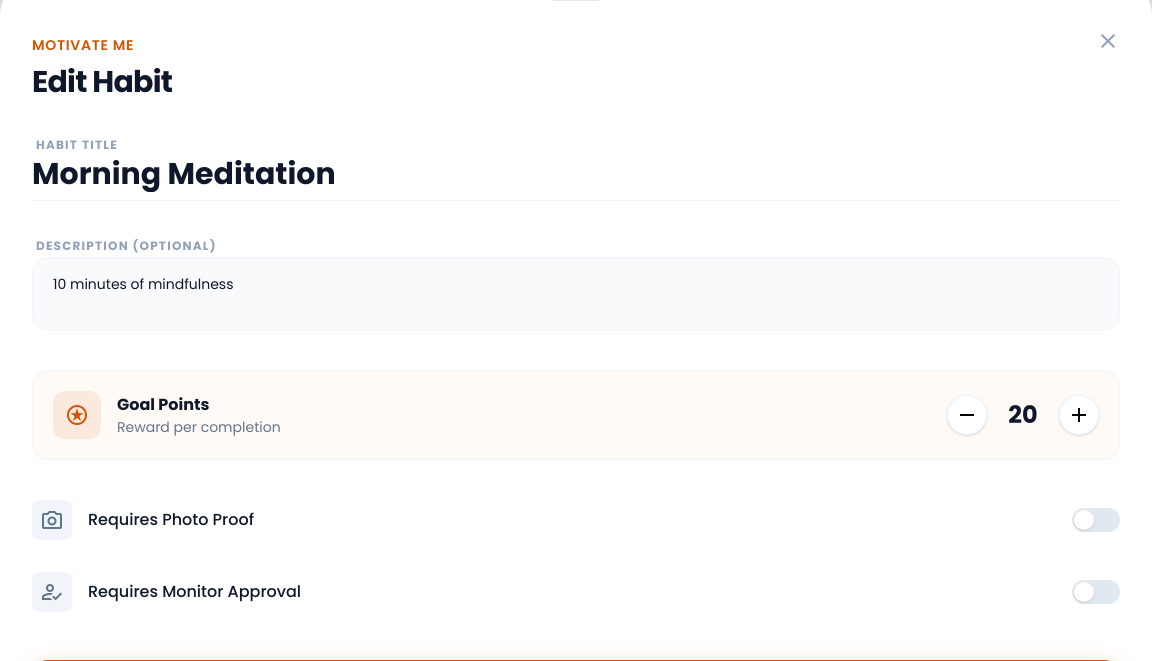
Test: EditHabit › save button disabled when name cleared
Clear the field showing "Morning Meditation" at [576, 174], box x1=32 y1=156 x2=1120 y2=192
(page scrolled)
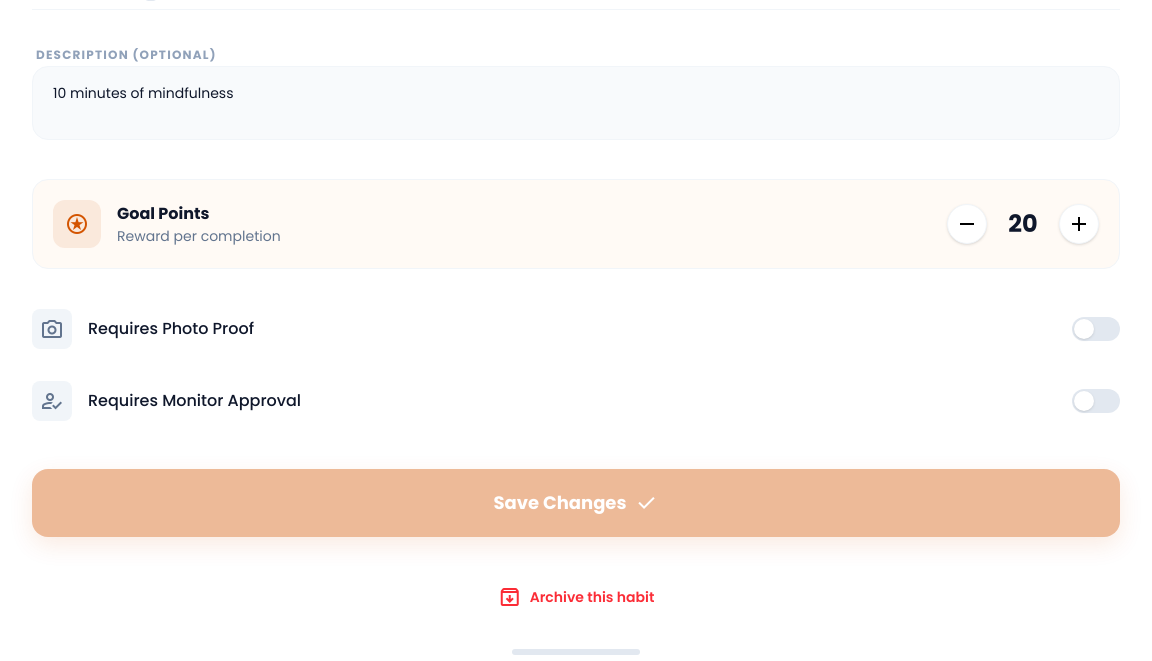
Result: the button "Save Changes" is disabled at x1=32 y1=469 x2=1120 y2=537
